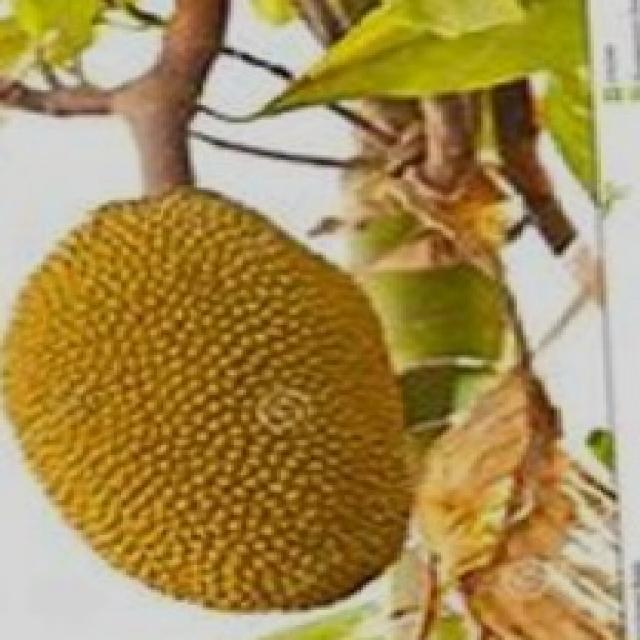Fruit: (0, 160, 425, 632)
